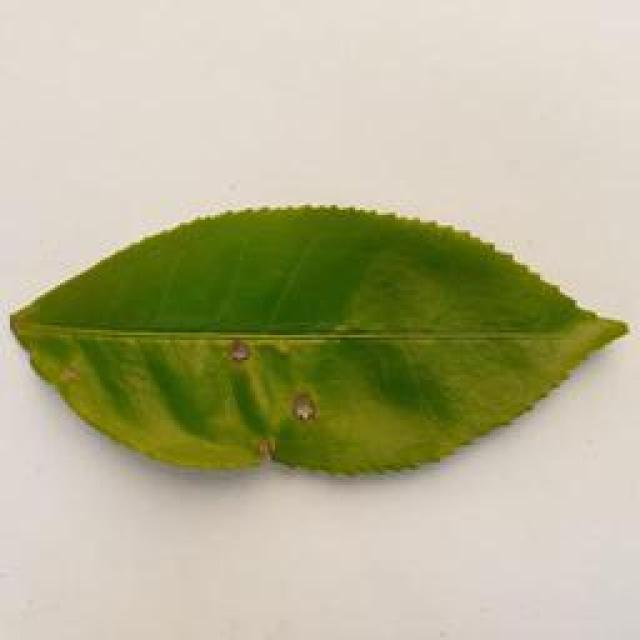Helopeltis: (6, 189, 640, 482)
